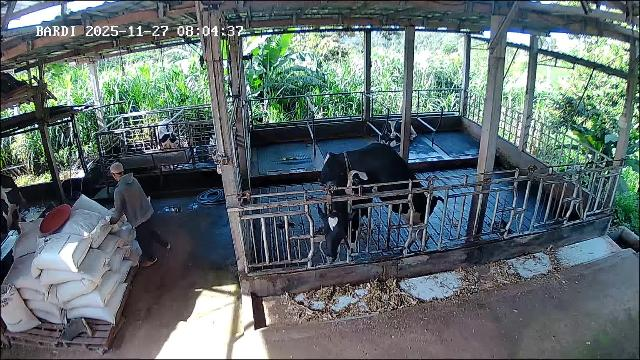mounting: (318, 141, 437, 247)
